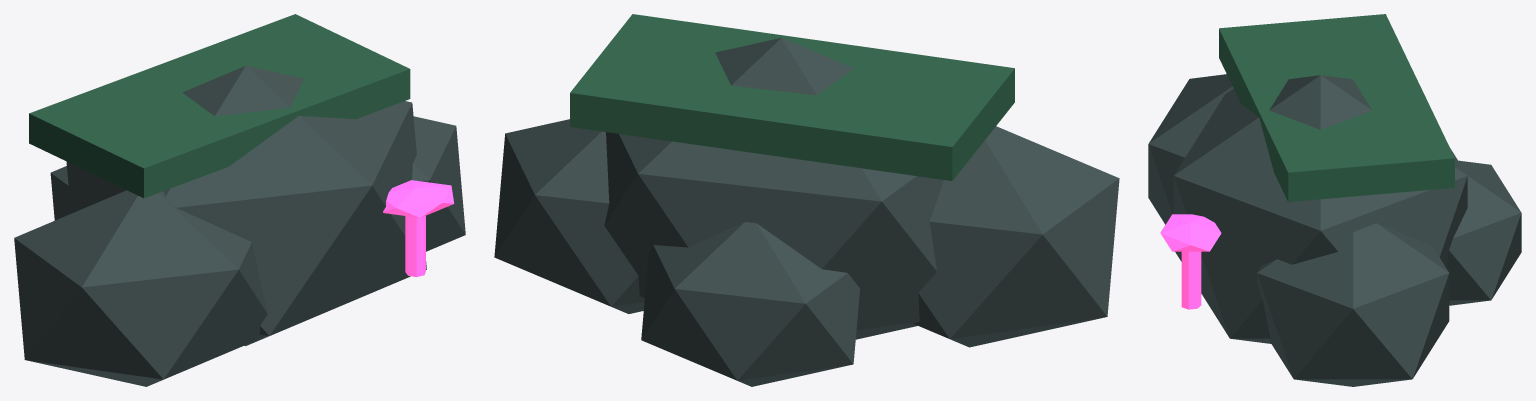
File: df_v2_rock_moss_cluster_a.glb
3 views of the same model, side by side, from view 1: azimuth 30°, elevation 25°; view 2: azimuth 150°, elevation 25°; view 3: azimuth 270°, elevation 25° (orthographic). The views are drawn at different scales.
Parts seen in each view (by area): view 1: mossy_stone_1, mossy_stone_0, moss_sheet, mossy_stone_2, rock_glow_cap, rock_glow_stem, mossy_stone_3; view 2: moss_sheet, mossy_stone_1, mossy_stone_0, mossy_stone_3, mossy_stone_2; view 3: mossy_stone_1, moss_sheet, mossy_stone_2, mossy_stone_3, mossy_stone_0, rock_glow_cap, rock_glow_stem.
Boxes of the visible parts, bbox=[...] form: mossy_stone_1: bbox=[66, 65, 426, 345]; mossy_stone_0: bbox=[14, 190, 267, 386]; moss_sheet: bbox=[29, 14, 410, 198]; mossy_stone_2: bbox=[412, 116, 465, 251]; rock_glow_cap: bbox=[383, 180, 454, 217]; rock_glow_stem: bbox=[405, 216, 425, 277]; mossy_stone_3: bbox=[50, 166, 70, 220]; moss_sheet: bbox=[570, 14, 1014, 180]; mossy_stone_1: bbox=[604, 38, 943, 339]; mossy_stone_0: bbox=[913, 126, 1119, 347]; mossy_stone_3: bbox=[641, 222, 859, 386]; mossy_stone_2: bbox=[494, 119, 644, 313]; mossy_stone_1: bbox=[1173, 75, 1467, 343]; moss_sheet: bbox=[1219, 14, 1454, 201]; mossy_stone_2: bbox=[1257, 223, 1449, 386]; mossy_stone_3: bbox=[1445, 160, 1521, 305]; mossy_stone_0: bbox=[1148, 74, 1233, 224]; rock_glow_cap: bbox=[1160, 214, 1221, 251]; rock_glow_stem: bbox=[1181, 251, 1201, 309].
Size of the model in its own units: 1.34 by 0.7488 by 0.9204.
